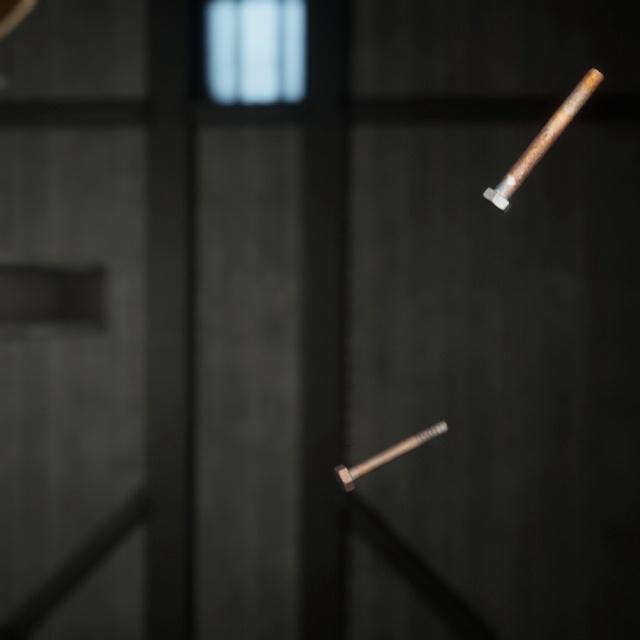bolt: (478, 51, 608, 204), (329, 396, 452, 476)
